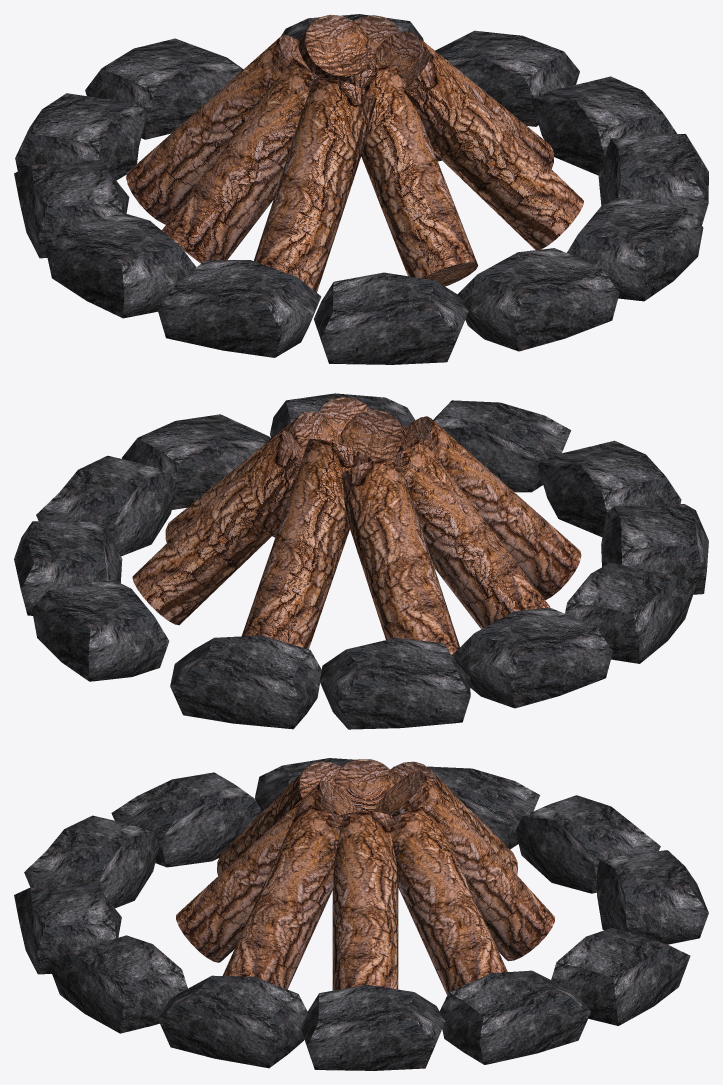
Rendered from HogueraProyecto.fbx.
The picture shows the model from 3 angles, top to bottom: view 1: azimuth 30°, elevation 25°; view 2: azimuth 150°, elevation 25°; view 3: azimuth 270°, elevation 25°; orthographic projection. The views are drawn at different scales.
Visible parts, largest first — view 1: Cylinder009, Cylinder008, Cylinder001, Roca009, Roca010, Roca006, Cylinder004, Roca008, Cylinder007, Roca005, Roca012, Roca (+9 smaller); view 2: Cylinder006, Cylinder002, Cylinder007, Roca012, Roca011, Roca007, Roca03, Cylinder003, Cylinder008, Roca008, Roca, Roca010 (+9 smaller); view 3: Cylinder006, Cylinder009, Cylinder005, Roca02, Roca004, Roca, Cylinder002, Roca005, Roca03, Roca009, Roca012, Roca011 (+9 smaller).
Boxes of the visible parts, x1,y1,x2,y2 form: Cylinder009: (403,51,583,249); Cylinder008: (254,78,376,292); Cylinder001: (344,64,478,286); Roca009: (158,260,321,357); Roca010: (314,272,468,364); Roca006: (457,248,619,351); Cylinder004: (165,60,320,262); Roca008: (45,213,196,318); Cylinder007: (126,35,309,224); Roca005: (567,197,703,301); Roca012: (85,38,243,139); Roca: (531,76,676,175); Cylinder006: (132,431,304,625); Cylinder002: (242,439,372,649); Cylinder007: (341,458,459,661); Roca012: (170,635,321,729); Roca011: (319,638,470,729); Roca007: (453,607,612,708); Roca03: (32,579,169,681); Cylinder003: (391,443,545,629); Cylinder008: (403,416,581,599); Roca008: (565,562,695,663); Roca: (36,455,176,556); Roca010: (538,440,681,537); Cylinder006: (388,805,507,994); Cylinder009: (222,804,342,989); Cylinder005: (332,811,398,990); Roca02: (440,970,591,1064); Roca004: (158,975,307,1068); Roca: (300,984,445,1070); Cylinder002: (374,771,554,961); Roca005: (48,935,187,1033); Roca03: (551,928,690,1025); Roca009: (111,772,262,867); Roca012: (596,850,708,944); Roca011: (515,795,660,893).
Size of the model in its own units: 78.92 by 24.55 by 84.77.
